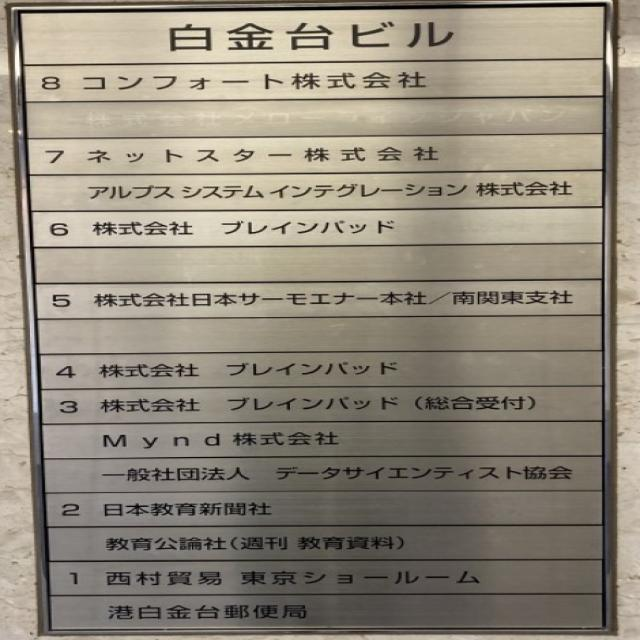building: (153, 16, 470, 58)
facility: (88, 286, 578, 313), (83, 178, 584, 204), (93, 463, 581, 486), (97, 392, 543, 416), (100, 566, 488, 591), (76, 67, 435, 94), (81, 143, 453, 167), (100, 531, 413, 556), (89, 216, 407, 240), (93, 359, 408, 382), (95, 428, 348, 451), (104, 600, 314, 624), (98, 498, 287, 520)
floor: (40, 218, 79, 242), (51, 398, 89, 418), (44, 291, 80, 312), (49, 361, 85, 382), (54, 501, 91, 520), (33, 74, 69, 93), (38, 147, 71, 167), (60, 569, 91, 589)
